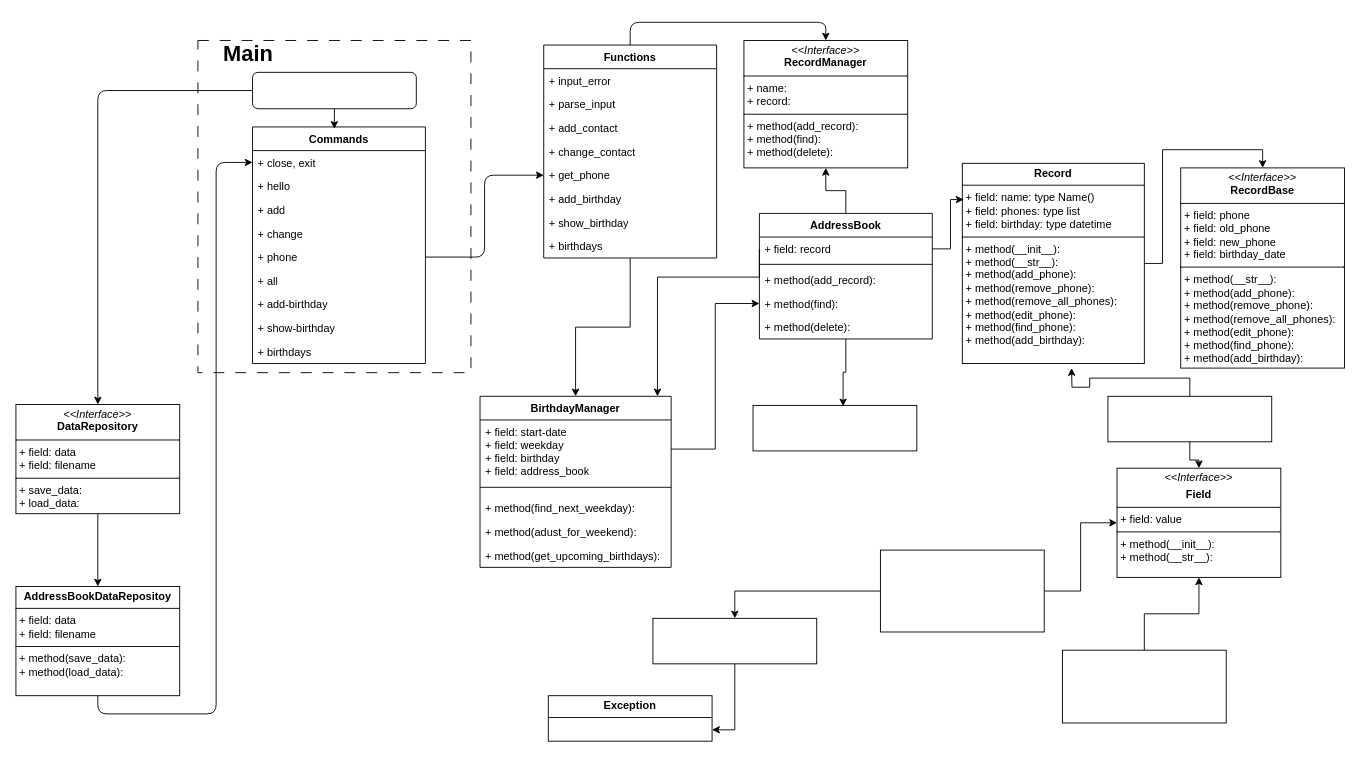
Image size: 1360x757. Some labels were removed from this diagram. The box of each missing label's shape, as (x1, y1, x2, y2) in pixels:
Birthday + field: value + method(__init__ ):: (1062, 649, 1226, 723)
CheckPhoneNumber pass: (652, 617, 817, 664)
def main ():: (252, 71, 416, 109)
Name pass: (1107, 395, 1272, 442)
Phone + field: value + method(__init__ ):: (880, 549, 1044, 632)
UserDict: (752, 404, 917, 451)
